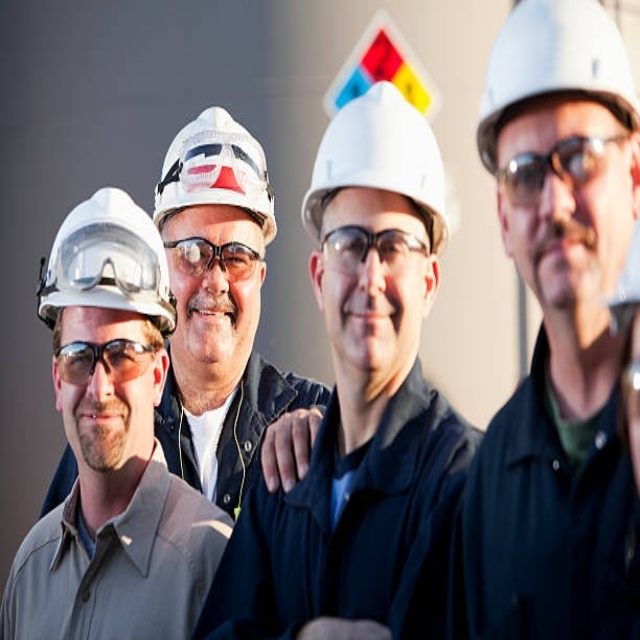Gafas: (495, 125, 631, 202), (319, 220, 431, 276), (51, 336, 155, 389), (164, 234, 260, 279)
Sin_guantes: (260, 407, 326, 496)
Sin_mascara: (526, 221, 599, 289), (339, 298, 397, 353), (188, 292, 238, 351), (76, 400, 128, 449)
